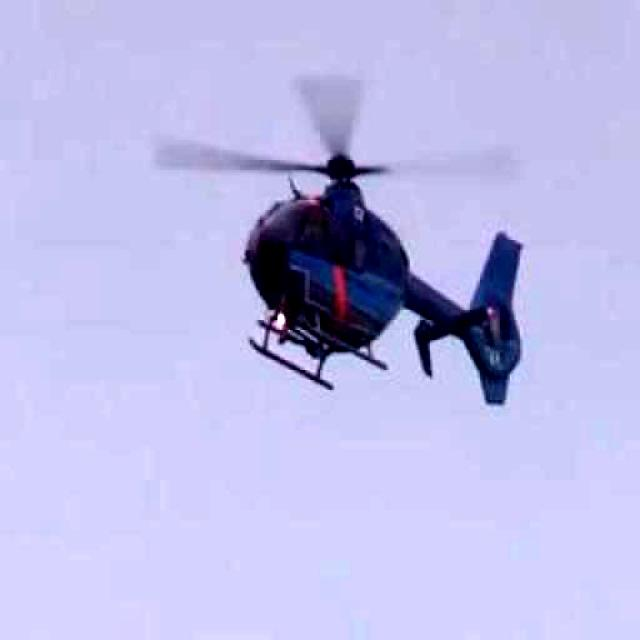drone: (139, 32, 582, 454)
